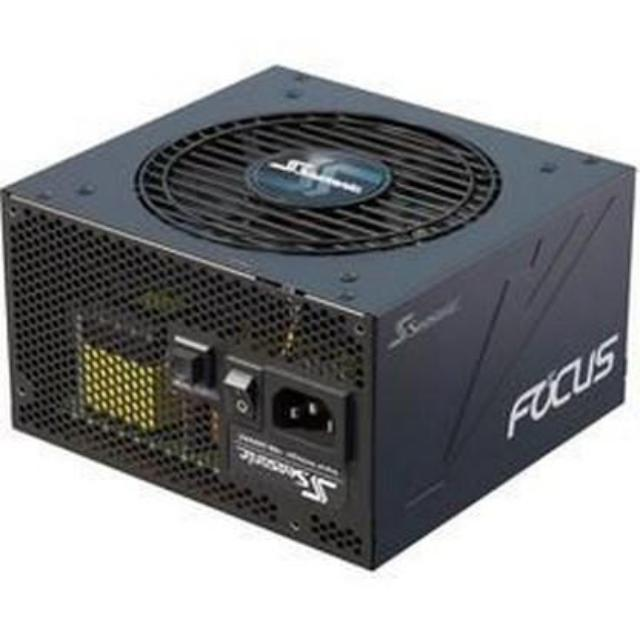PSU: (0, 52, 640, 568)
